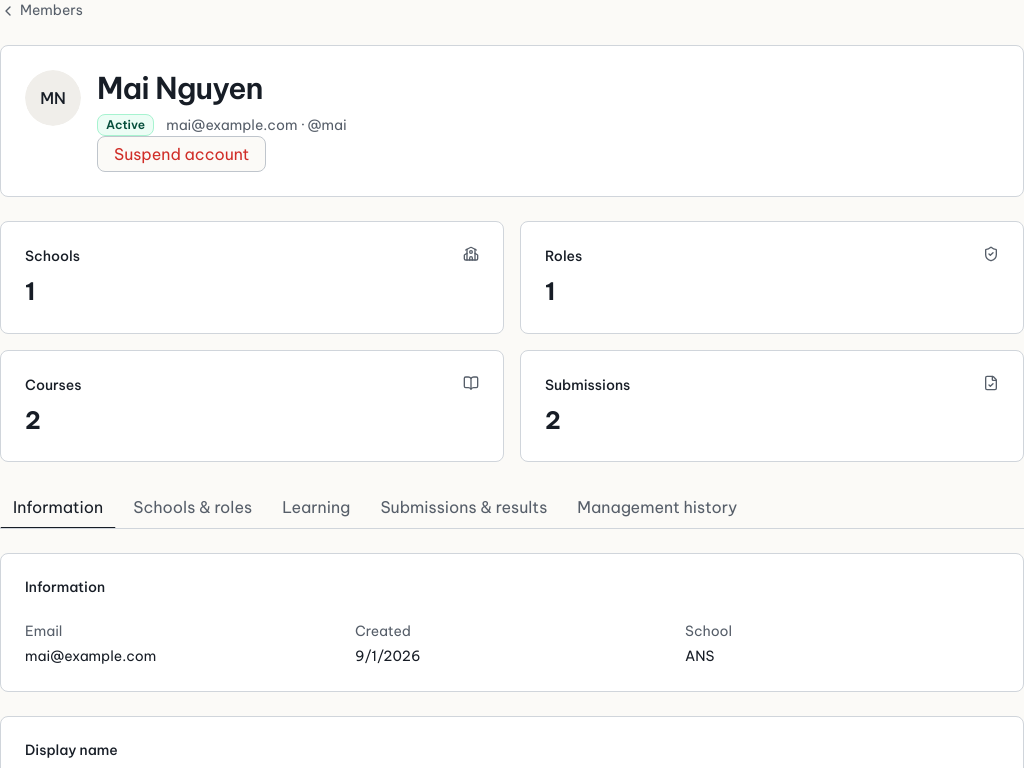
it: MemberProfile (staff refresh) › uses course and item titles in the learning and results tables, with readable historical fallbacks
What coordinates should you click on to do the following:
click the tab "Learning"
I would click on:
 (316, 508)
Its box is [269,486,364,529].
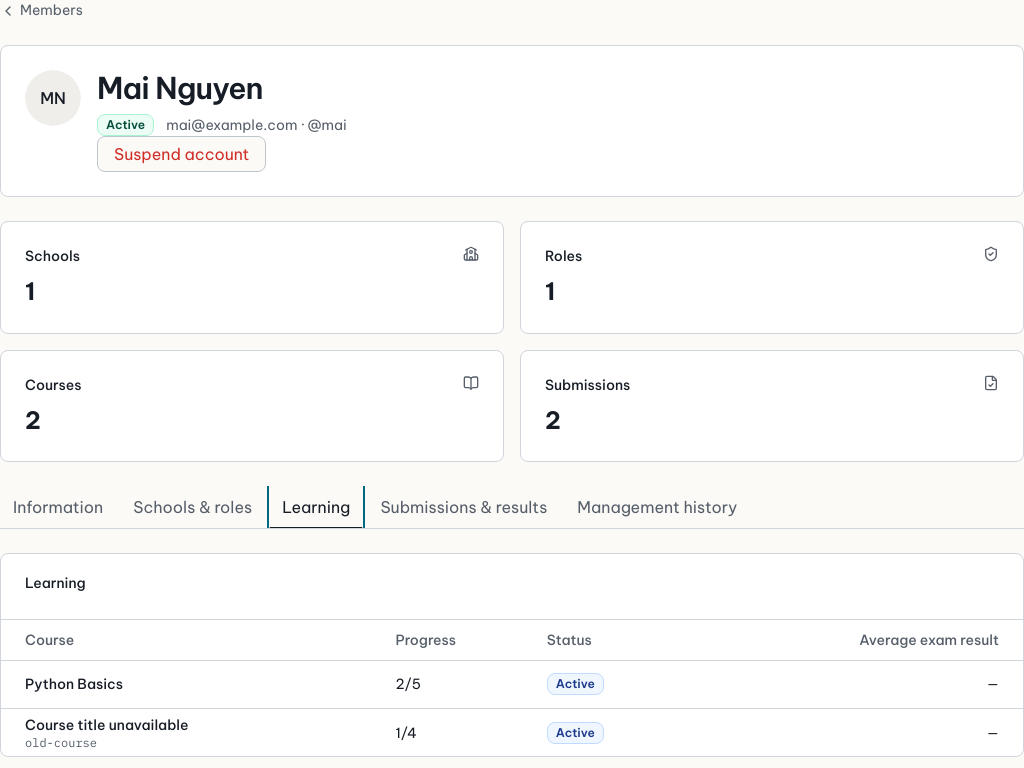
Check: the text "Python Basics" is shown, box [1,660,388,708]
Check: the text "Course title unavailable" is shown, box [25,716,188,734]
What coordinates should you click on to do the following:
click the tab "Submissions & results"
I would click on:
 (464, 508)
Its box is [367,486,560,529].
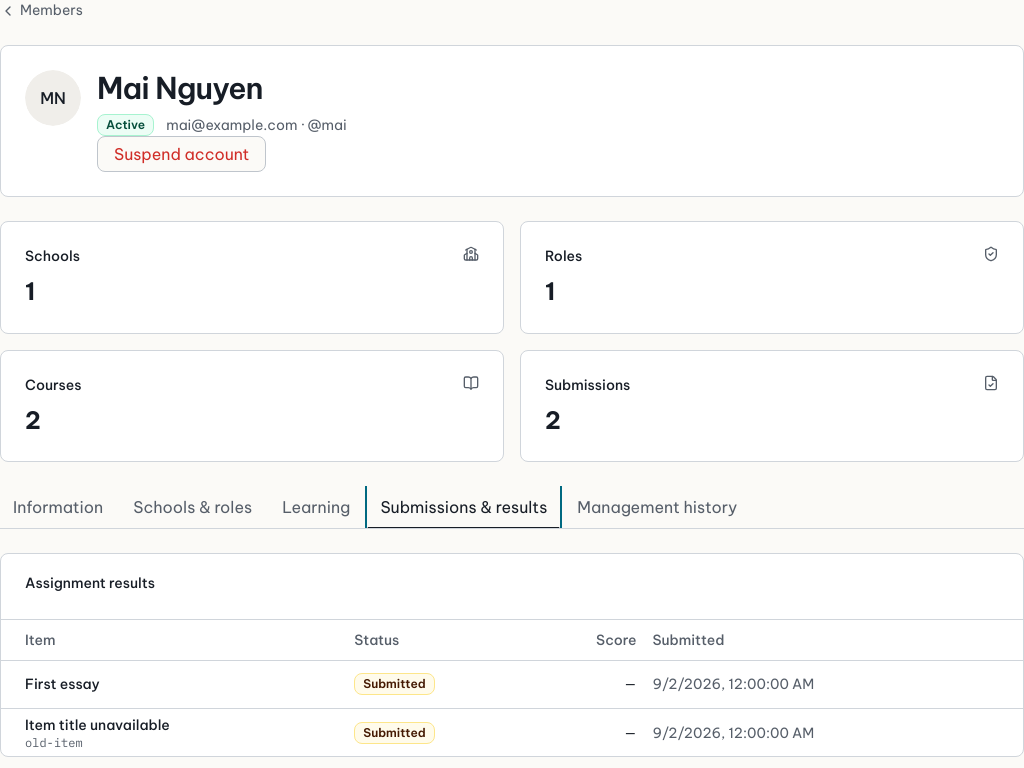
Check: the text "First essay" is shown, box [25,675,100,693]
Check: the text "Item title unavailable" is shown, box [25,716,170,734]
